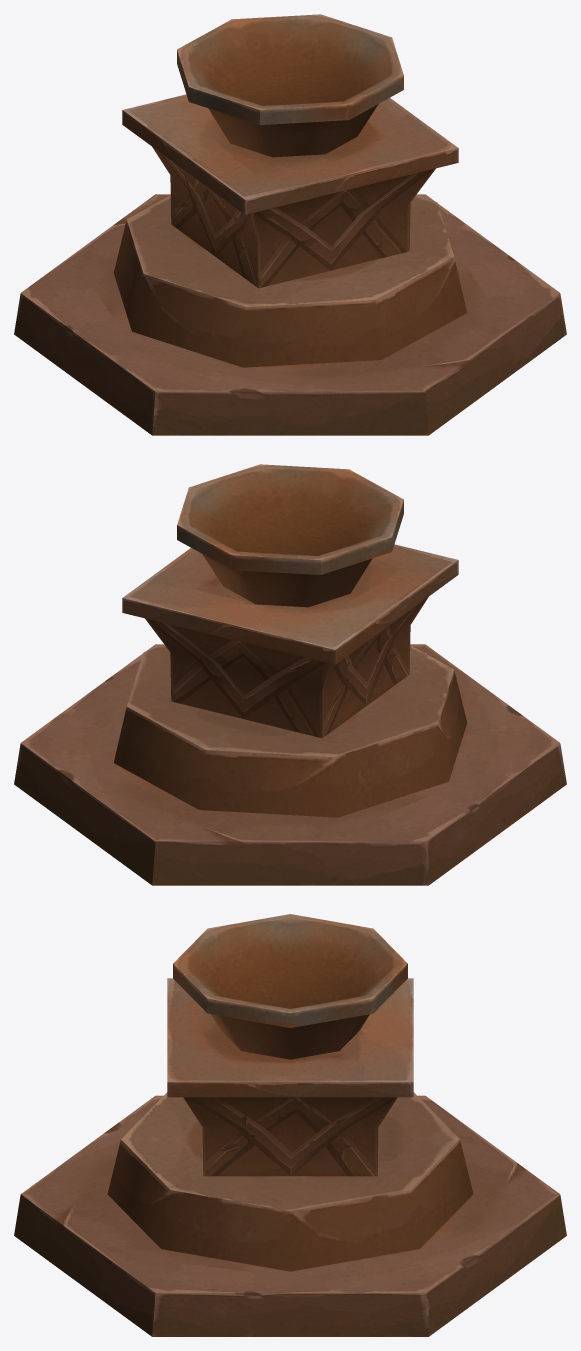
Rendered from guchengqishituan_wujian_24.FBX.
3 views of the same model, one above another, from view 1: azimuth 30°, elevation 25°; view 2: azimuth 150°, elevation 25°; view 3: azimuth 270°, elevation 25° (orthographic).
Parts seen in each view (by area): view 1: GCQST_wujian_24; view 2: GCQST_wujian_24; view 3: GCQST_wujian_24.
Boxes of the visible parts, <box> form: GCQST_wujian_24: <box>14,14,566,435</box>; GCQST_wujian_24: <box>14,464,566,885</box>; GCQST_wujian_24: <box>14,914,566,1336</box>.
Bounding box in the file's own units: 2.93 × 1.84 × 3.38.
